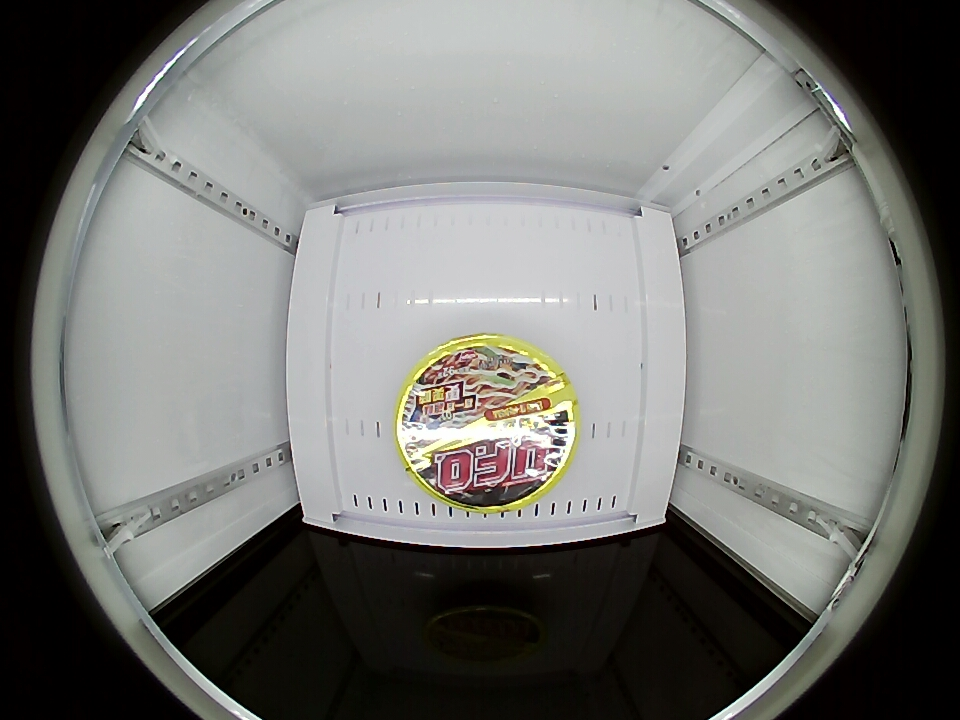ufo: (395, 334, 579, 513)
